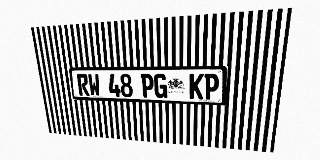4: (107, 74, 121, 97)
8: (120, 74, 133, 97)
G: (154, 74, 167, 98)
K: (189, 73, 204, 99)
P: (204, 73, 219, 100), (140, 74, 154, 98)
R: (76, 74, 90, 96)
W: (87, 74, 101, 96)
